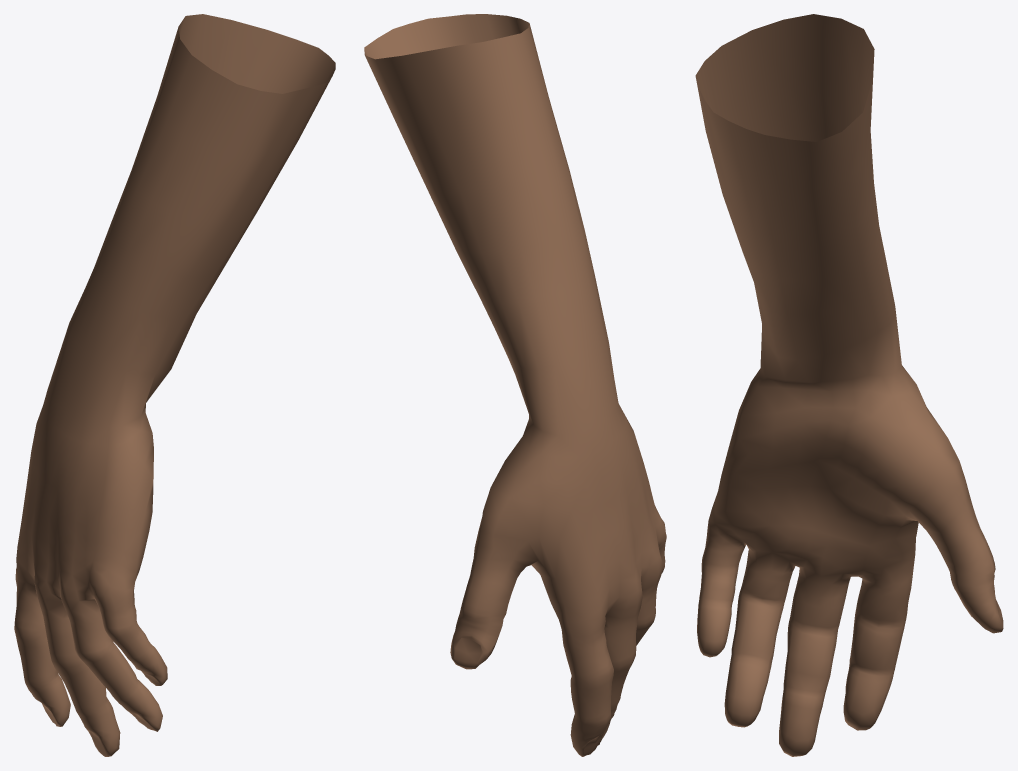
The model's file is HandNormalDummy.FBX.
3 views of the same model, side by side, from view 1: azimuth 30°, elevation 25°; view 2: azimuth 150°, elevation 25°; view 3: azimuth 270°, elevation 25° (orthographic). The views are drawn at different scales.
Visible parts, largest first — view 1: HandNormal_Dummy; view 2: HandNormal_Dummy; view 3: HandNormal_Dummy.
Boxes of the visible parts, bbox=[...] form: HandNormal_Dummy: bbox=[14, 14, 335, 756]; HandNormal_Dummy: bbox=[364, 14, 666, 756]; HandNormal_Dummy: bbox=[695, 14, 1003, 756].
Bounding box in the file's own units: 9.53 × 22.65 × 8.01.
